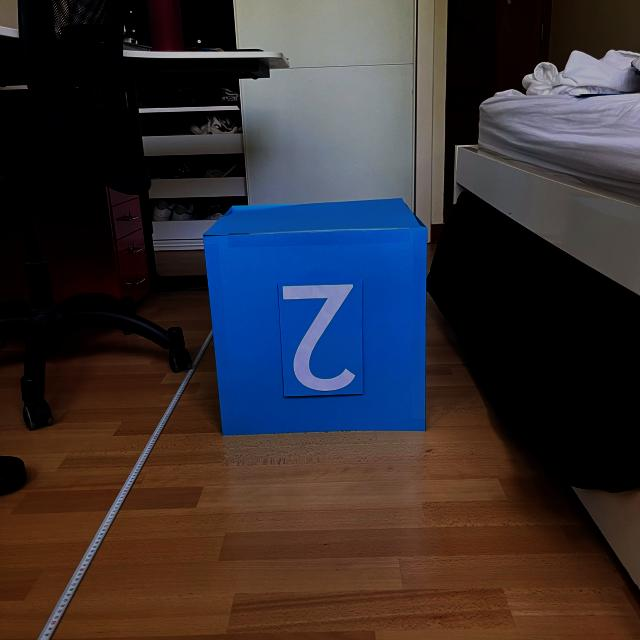box: (199, 195, 431, 438)
